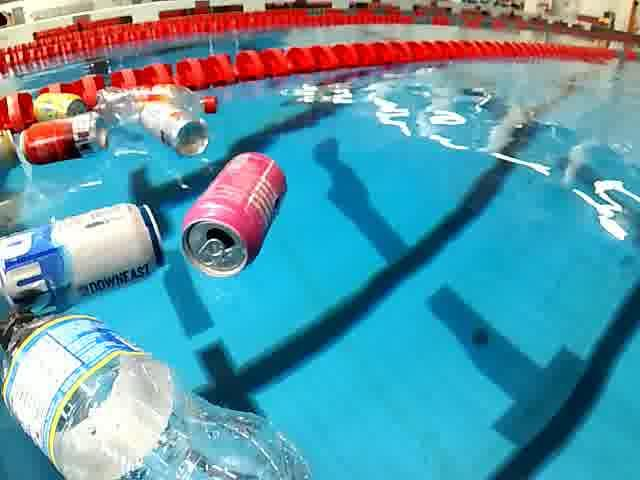Bottle: (1, 307, 318, 480), (90, 81, 222, 129)
Can: (0, 195, 171, 314), (173, 149, 299, 283), (14, 109, 116, 172), (138, 101, 212, 155), (31, 93, 93, 123)
